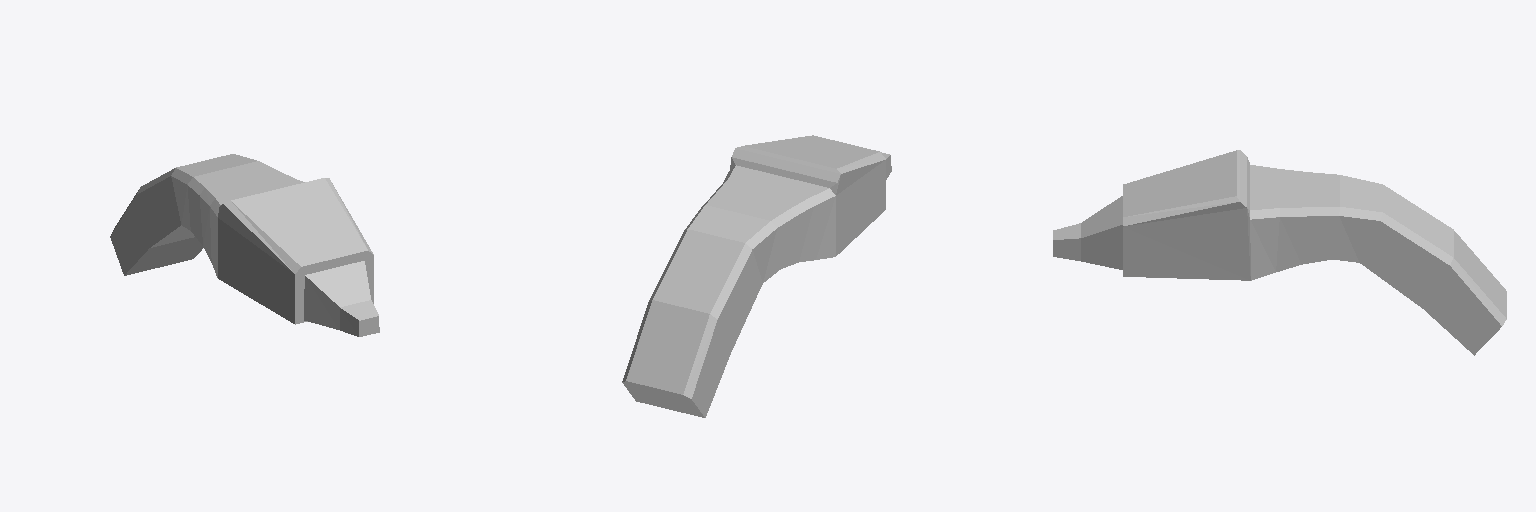
Rendered from phaser.obj.
The picture shows the model from 3 angles: view 1: azimuth 30°, elevation 25°; view 2: azimuth 150°, elevation 25°; view 3: azimuth 270°, elevation 25°; orthographic projection.
Parts seen in each view (by area): view 1: Box001; view 2: Box001; view 3: Box001.
Part boxes in pixels (bbox=[...]): Box001: bbox=[110, 154, 379, 336]; Box001: bbox=[622, 135, 891, 417]; Box001: bbox=[1053, 150, 1506, 355].
Bounding box in the file's own units: 1.7 × 2.54 × 6.31.